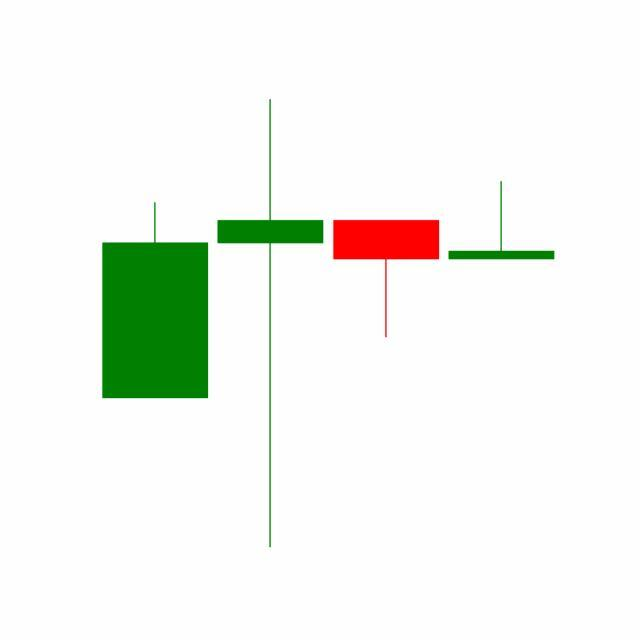Gravestone Doji: (444, 180, 560, 260)
